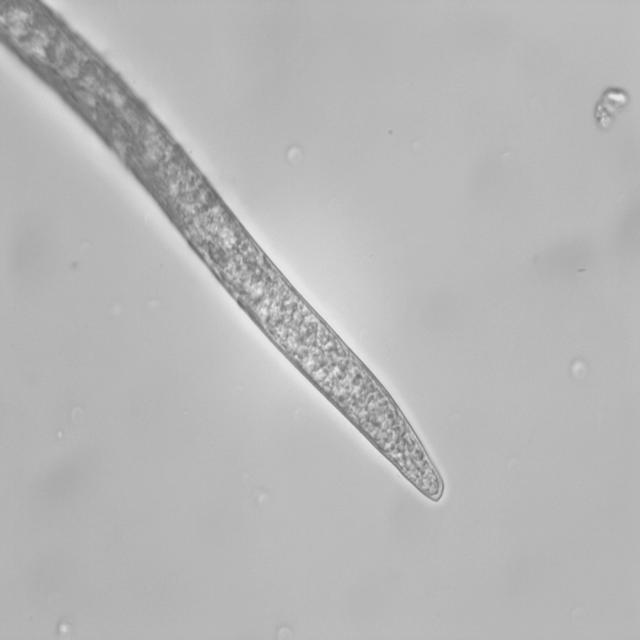Pratylenchus: (79, 72, 445, 507)
